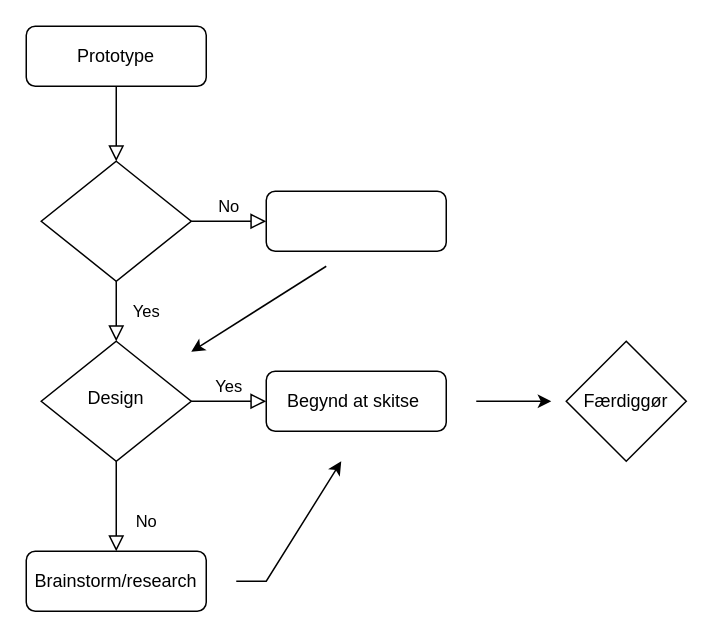
The diagram is 713 pixels wide and 638 high, and some of its shapes have lost their labels. The box of each missing label's shape, as (x1, y1, x2, y2) in pixels:
Brainstorm: (265, 190, 446, 251)
ide til 2d spil: (40, 160, 191, 281)
